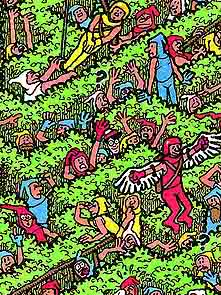waldo: (102, 125, 122, 155)
